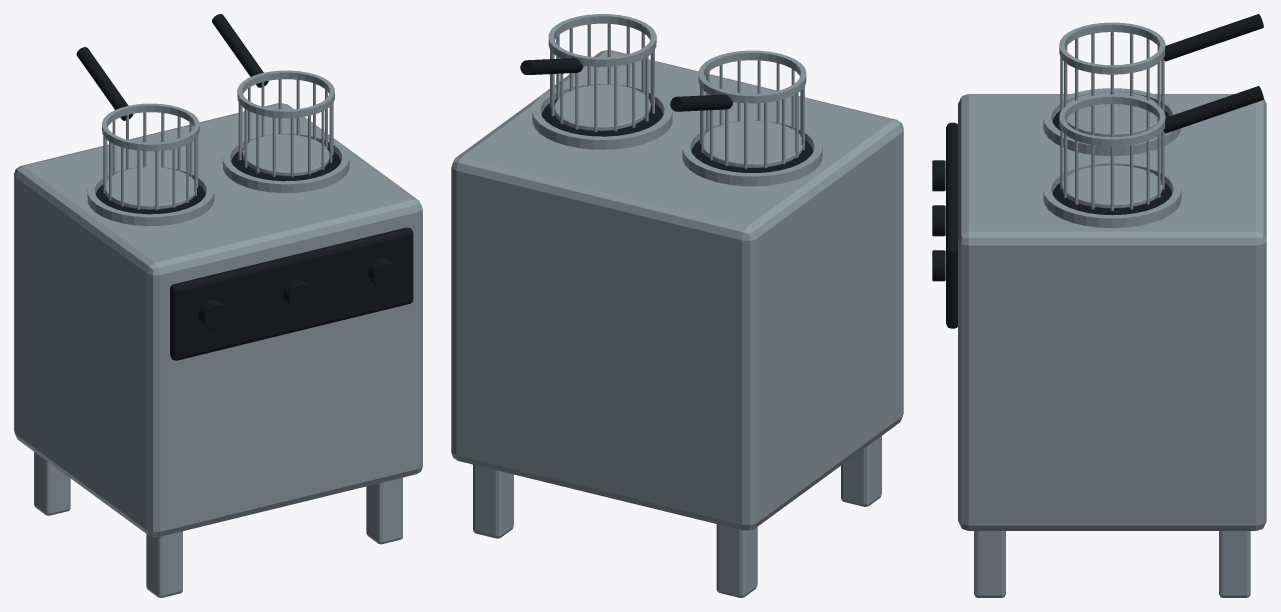
The model's file is edited.glb.
3 renders of one model, left to right at view 1: azimuth 30°, elevation 25°; view 2: azimuth 150°, elevation 25°; view 3: azimuth 270°, elevation 25°, orthographic. The views are drawn at different scales.
Parts seen in each view (by area): view 1: BODY, CONTROL_Panel, BASKET_Wires.001, BASKET_Wires, BASKET_Base.001, BASKET_Base, WELL_Rim.001, WELL_Rim, LEG, LEG.002, BASKET_Rim.001, BASKET_Rim (+8 smaller); view 2: BODY, BASKET_Base.001, BASKET_Base, BASKET_Wires.001, BASKET_Wires, WELL_Rim.001, WELL_Rim, LEG.001, LEG.003, BASKET_Rim, BASKET_Rim.001, LEG (+4 smaller); view 3: BODY, WELL_Rim.001, BASKET_Base, BASKET_Wires.001, CONTROL_Panel, BASKET_Rim.001, BASKET_Rim, BASKET_Base.001, WELL_Rim, LEG.002, LEG.003, BASKET_Wires (+3 smaller).
Boxes of the visible parts, x1,y1,x2,y2 form: BODY: (14, 103, 422, 537); CONTROL_Panel: (170, 227, 413, 360); BASKET_Wires.001: (238, 79, 333, 177); BASKET_Wires: (103, 112, 198, 210); BASKET_Base.001: (105, 167, 194, 209); BASKET_Base: (242, 134, 329, 176); WELL_Rim.001: (222, 130, 349, 192); WELL_Rim: (87, 163, 214, 226); LEG: (146, 531, 182, 597); LEG.002: (366, 477, 402, 544); BASKET_Rim.001: (237, 70, 334, 118); BASKET_Rim: (102, 103, 199, 151); BODY: (451, 50, 903, 530); BASKET_Base.001: (703, 120, 802, 167); BASKET_Base: (554, 84, 650, 130); BASKET_Wires.001: (550, 23, 654, 132); BASKET_Wires: (700, 60, 804, 168); WELL_Rim.001: (532, 80, 672, 149); WELL_Rim: (682, 117, 822, 186); LEG.001: (716, 524, 757, 597); LEG.003: (473, 464, 513, 538); BASKET_Rim: (698, 50, 806, 103); BASKET_Rim.001: (548, 14, 656, 66); LEG: (841, 436, 881, 506); BODY: (958, 94, 1266, 530); WELL_Rim.001: (1043, 160, 1181, 228); BASKET_Base: (1062, 165, 1162, 208); BASKET_Wires.001: (1060, 104, 1164, 210); CONTROL_Panel: (946, 122, 957, 328); BASKET_Rim.001: (1059, 94, 1165, 146); BASKET_Rim: (1059, 22, 1165, 74); BASKET_Base.001: (1067, 91, 1157, 136); WELL_Rim: (1043, 88, 1181, 155); LEG.002: (974, 531, 1005, 597); LEG.003: (1219, 531, 1250, 597); BASKET_Wires: (1060, 32, 1164, 111).
Size of the model in its own units: 0.65 by 1 by 0.6285.
